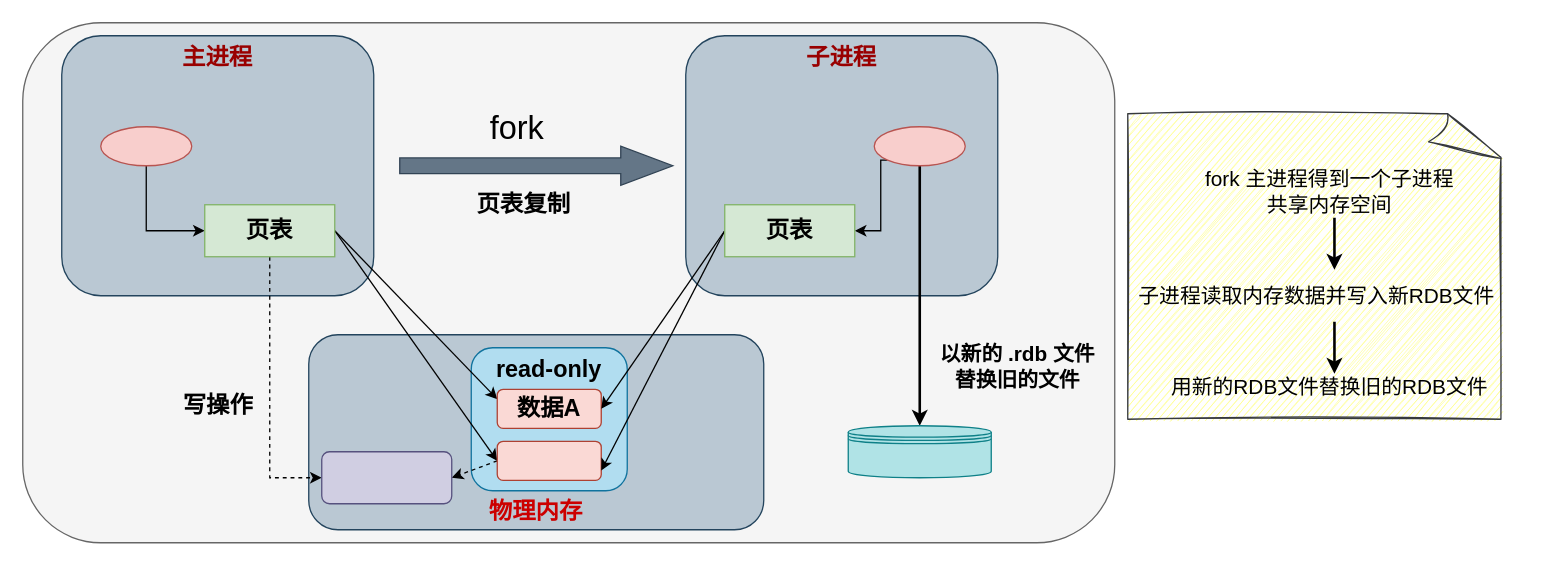
The diagram is 1560 pixels wide and 566 high, and some of its shapes have lost their labels. The shapes that lost their labels are listed below. From the top down, each one's centre as x and y in pixels, then its label:
point (548, 460): 数据B
point (919, 451): 磁盘
point (386, 477): 数据B副本
